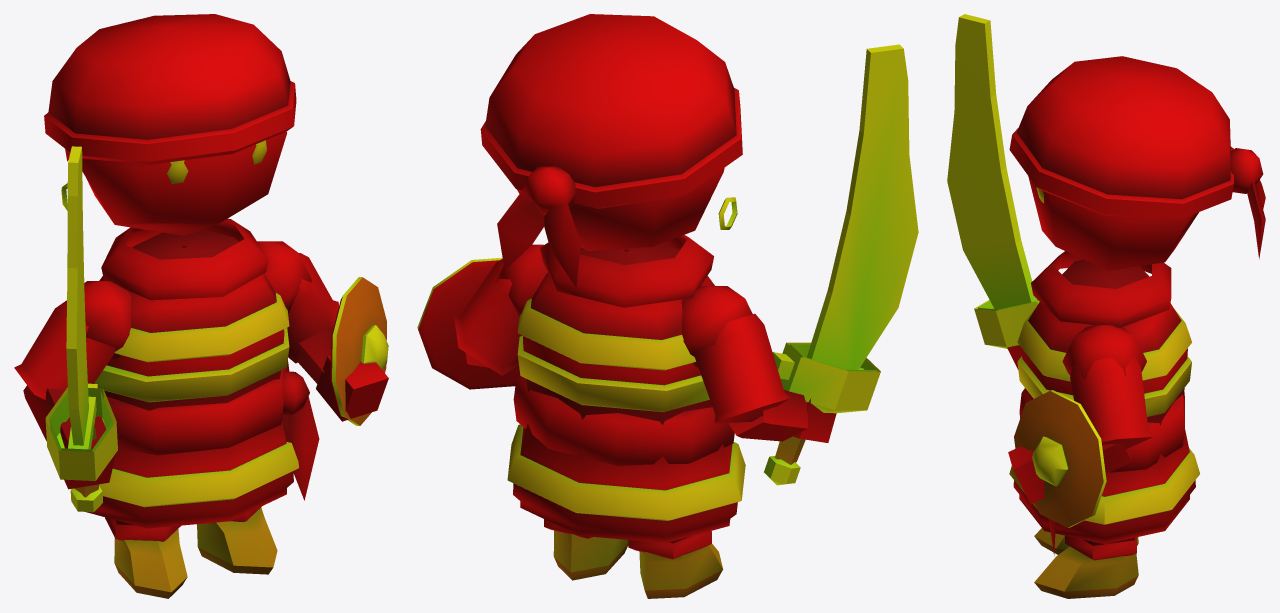
The model's file is PirateSwabbie_LOD1.glb.
3 views of the same model, side by side, from view 1: azimuth 30°, elevation 25°; view 2: azimuth 150°, elevation 25°; view 3: azimuth 270°, elevation 25° (orthographic). The views are drawn at different scales.
Visible parts, largest first — view 1: PirateSwabbie_LOD1; view 2: PirateSwabbie_LOD1; view 3: PirateSwabbie_LOD1.
Part boxes in pixels (left/top/right/bottom): PirateSwabbie_LOD1: left=14, top=14, right=388, bottom=598; PirateSwabbie_LOD1: left=417, top=14, right=918, bottom=598; PirateSwabbie_LOD1: left=947, top=14, right=1265, bottom=598.
Bounding box in the file's own units: 0.6525 × 0.8097 × 0.481.
